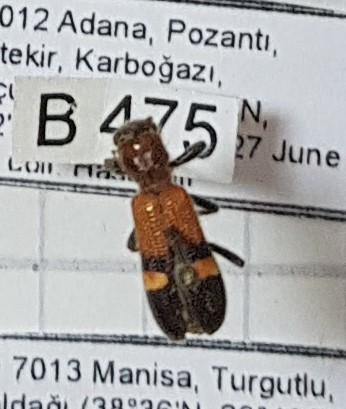opilo_taeniatus: (100, 112, 247, 340)
